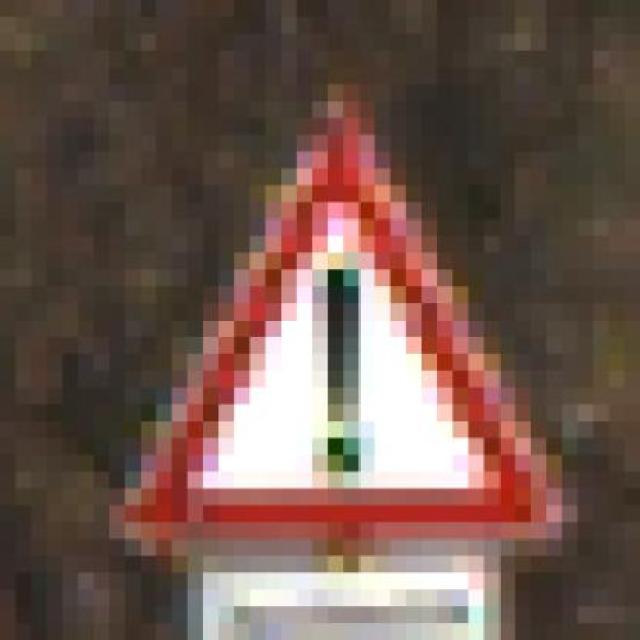Attention Please-: (108, 84, 578, 556)
